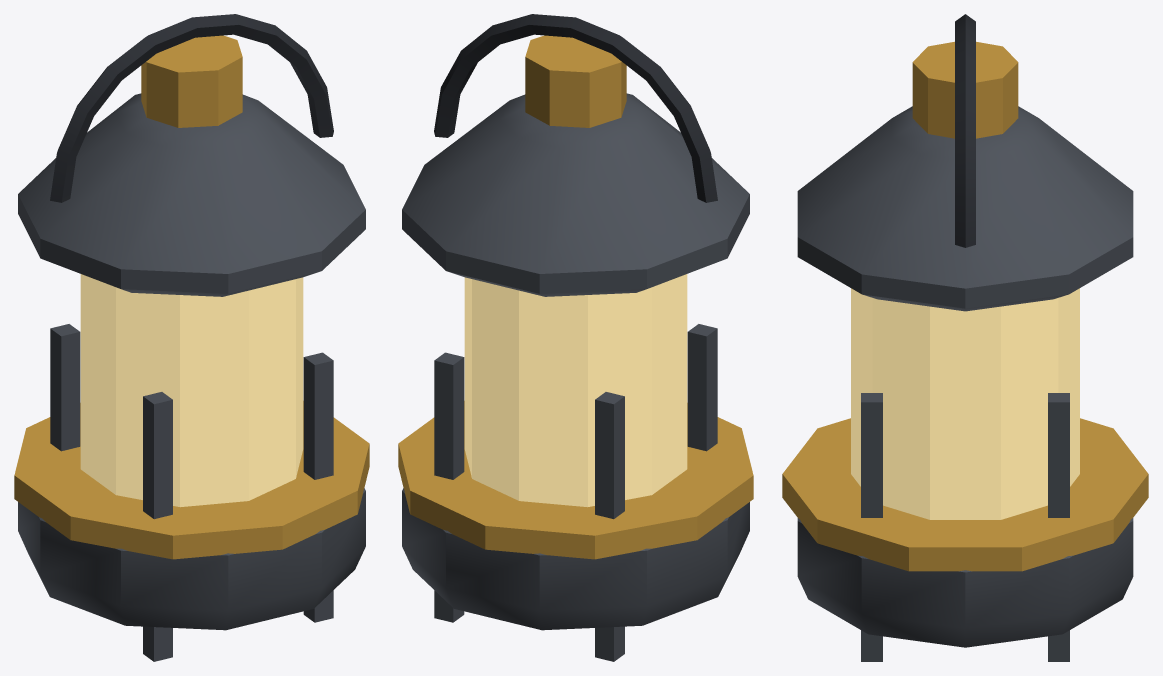
File: SM_Lantern.glb
The picture shows the model from 3 angles, left to right: view 1: azimuth 30°, elevation 25°; view 2: azimuth 150°, elevation 25°; view 3: azimuth 270°, elevation 25°; orthographic projection.
Visible parts, largest first — view 1: SM_Lantern; view 2: SM_Lantern; view 3: SM_Lantern.
Part boxes in pixels (<box>): SM_Lantern: <box>14,14,369,661</box>; SM_Lantern: <box>398,14,753,661</box>; SM_Lantern: <box>782,14,1148,661</box>.
Bounding box in the file's own units: 0.16 × 0.295 × 0.166.
Materials: 2 (2 with a texture image).
